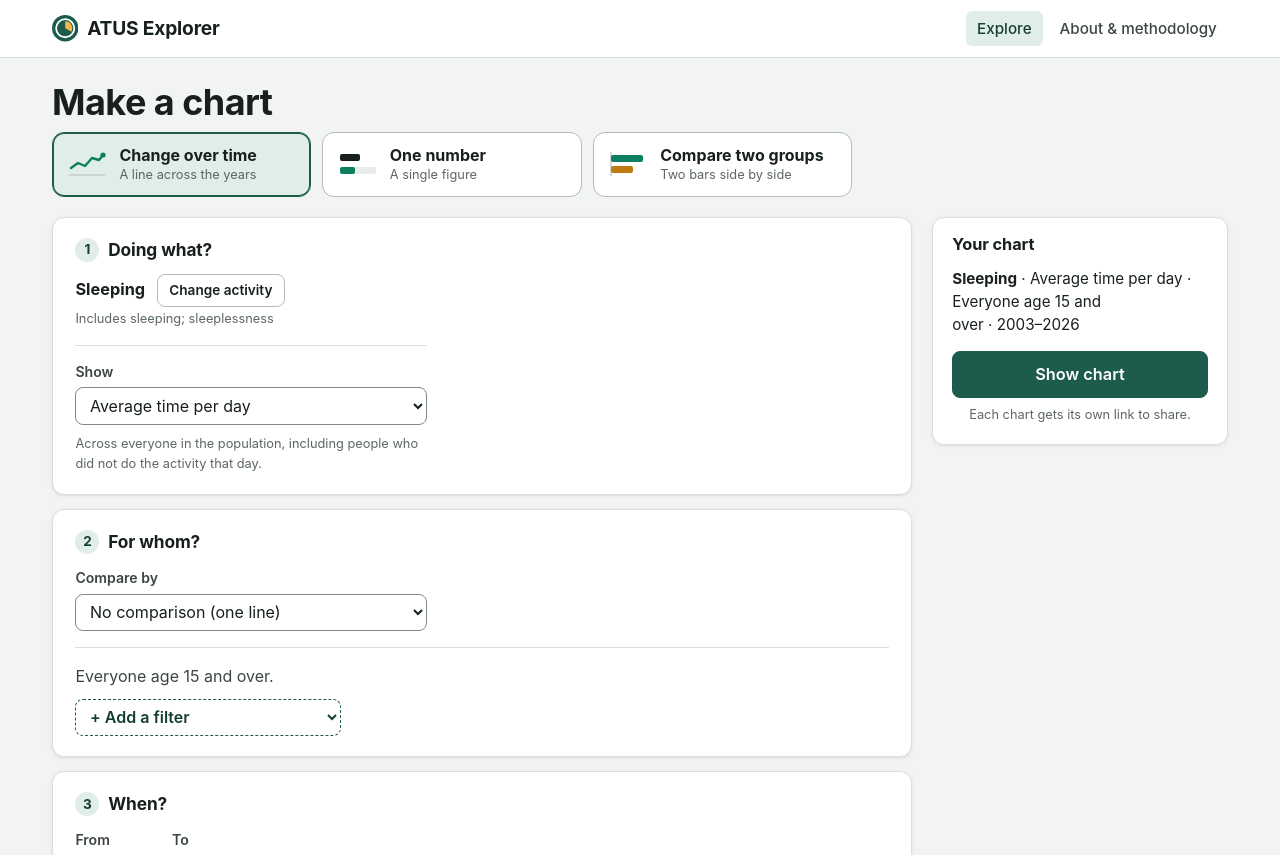
Test: a new survey year arrives through /meta alone (§15) › the default analyses request 2026: a trend of 2003–2026, an estimate of [2026]
# The builder opens on a trend (review round 4).
What coordinates should you click on to do the following:
click the button "Show chart"
I would click on:
 (1080, 374)
Its box is [952,351,1208,398].
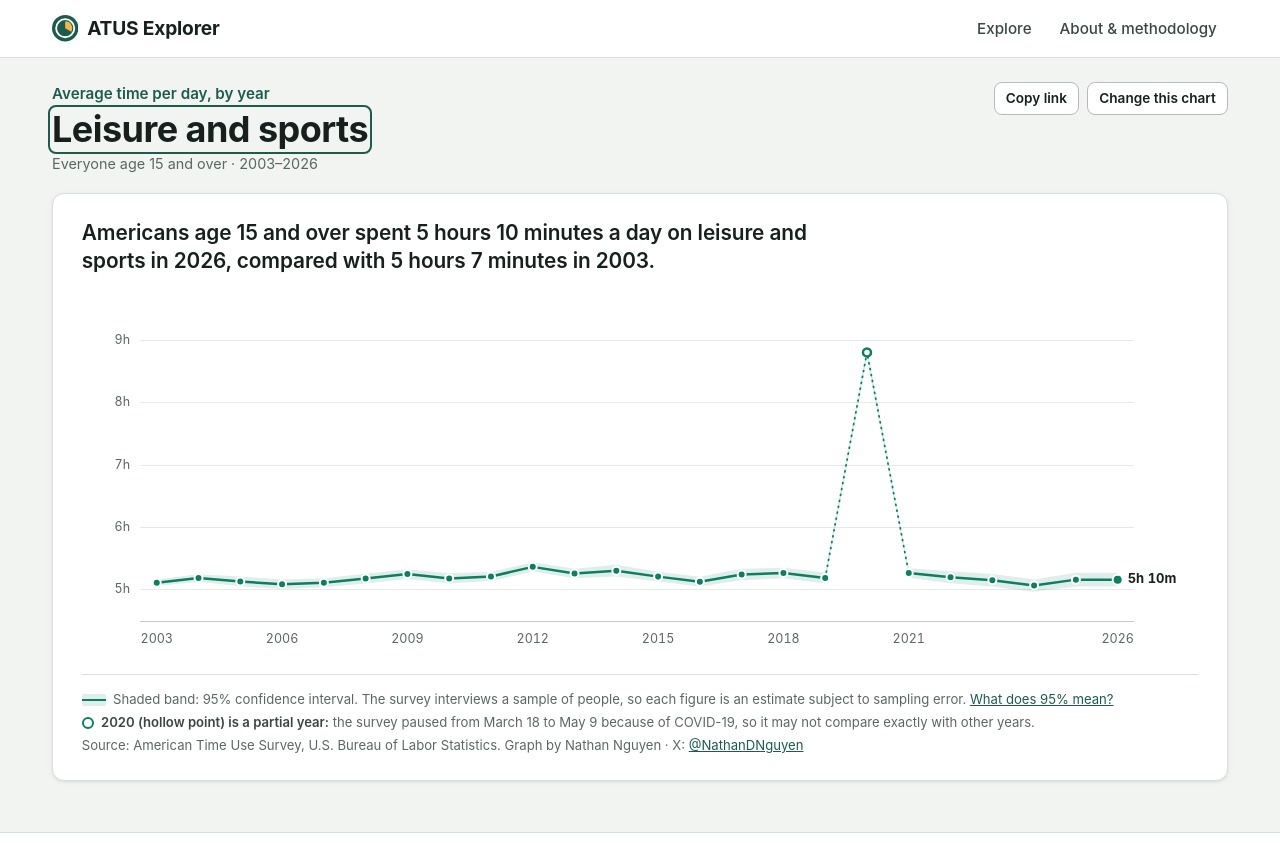
expect the element with test id "point-2026" is shown: met, box [1112,574,1122,584]
What coordinates should you click on to do the following:
click the link "Explore"
I would click on:
 (1004, 28)
Its box is [977,19,1032,38].
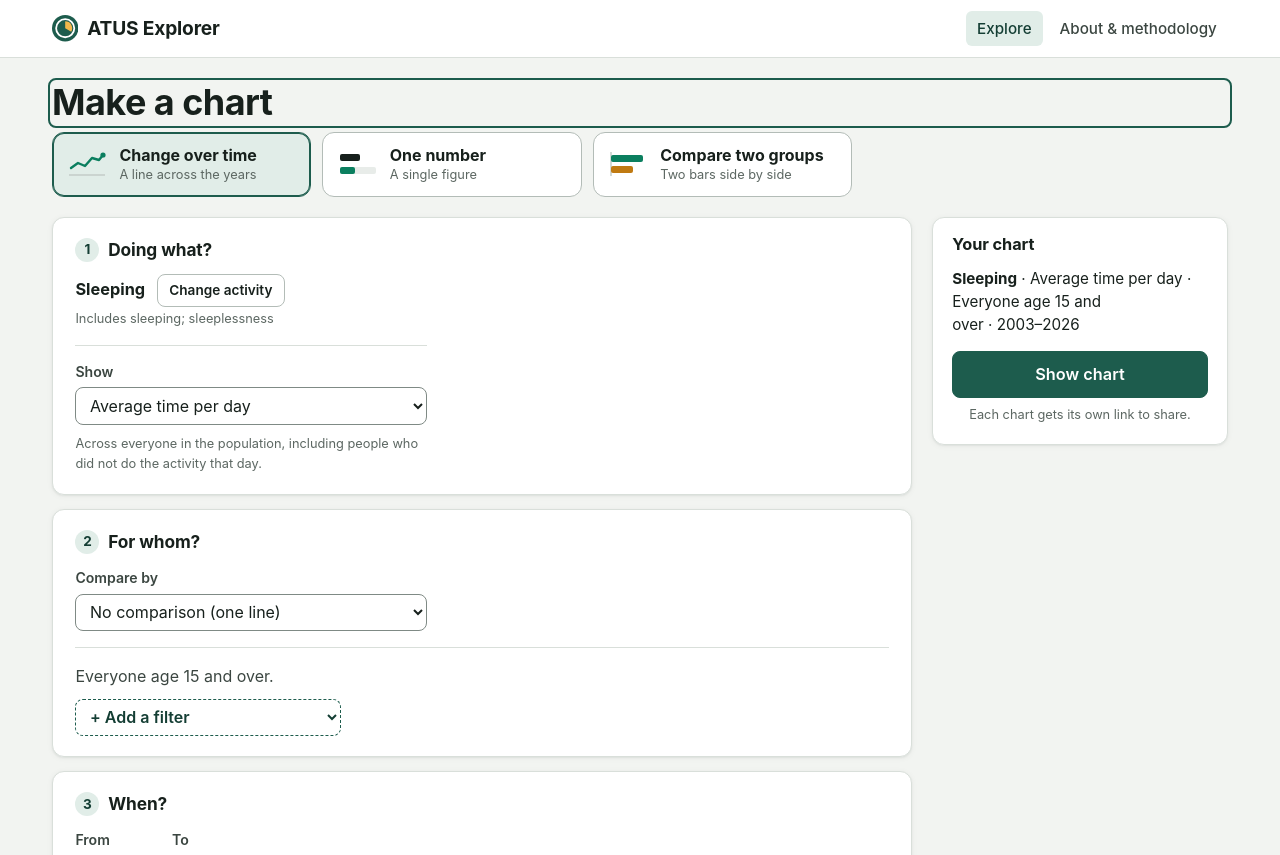
expect the button "Show chart" is shown: met, box [952,351,1208,398]
What coordinates should you click on to do the following:
click the radio button labelled "One number"
I would click on:
 (452, 164)
Its box is [322,132,582,197].
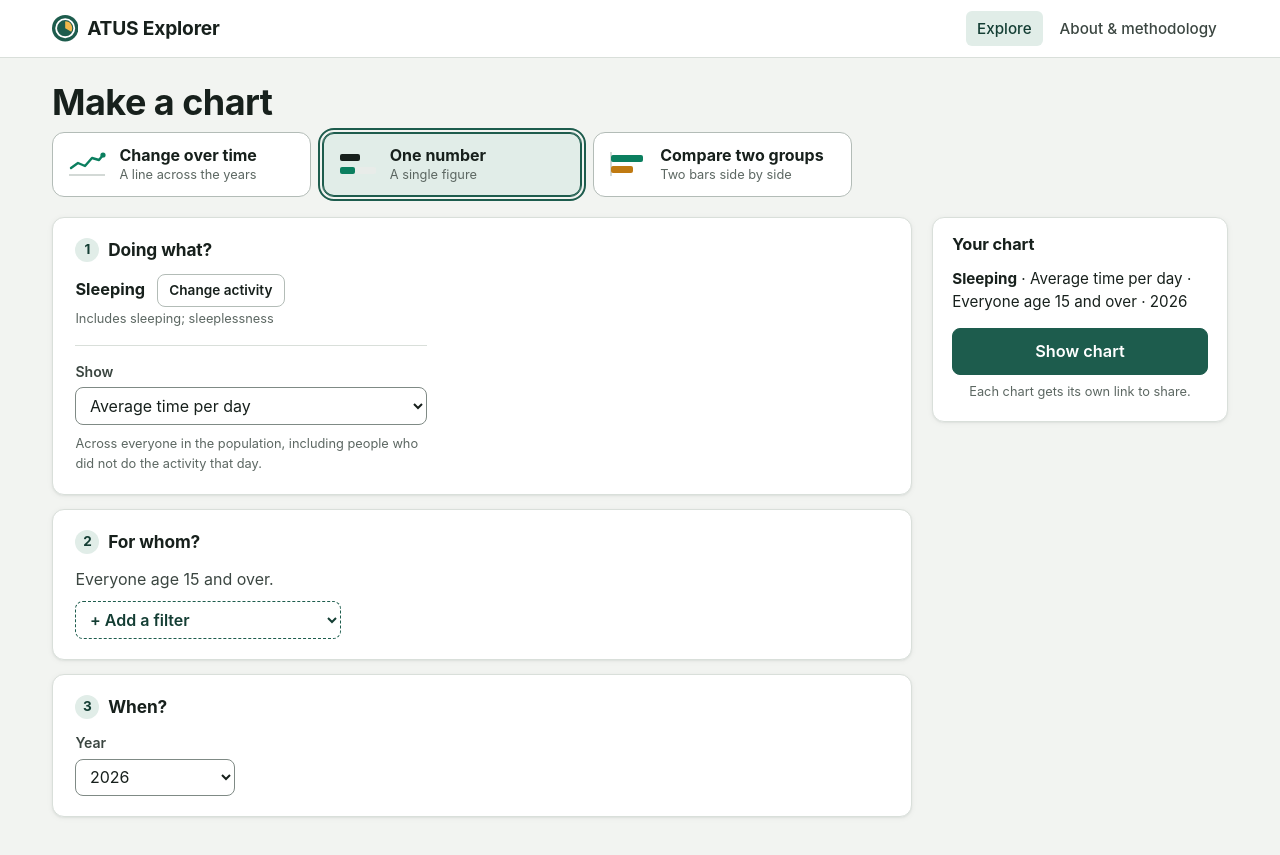
What coordinates should you click on to do the following:
click the button "Show chart"
I would click on:
 (1080, 352)
Its box is [952,328,1208,375].
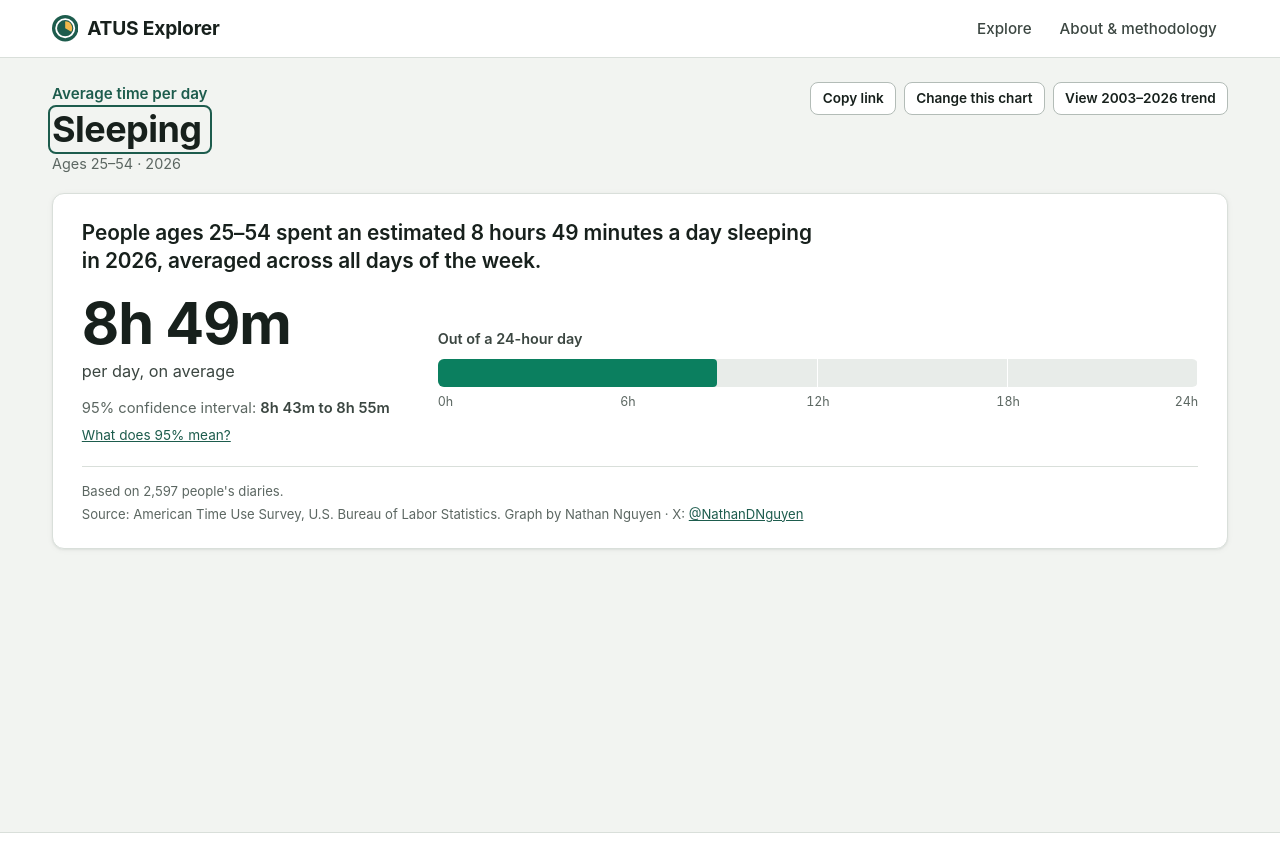
expect the text "8h 49m" is shown: met, box [82,288,291,358]
